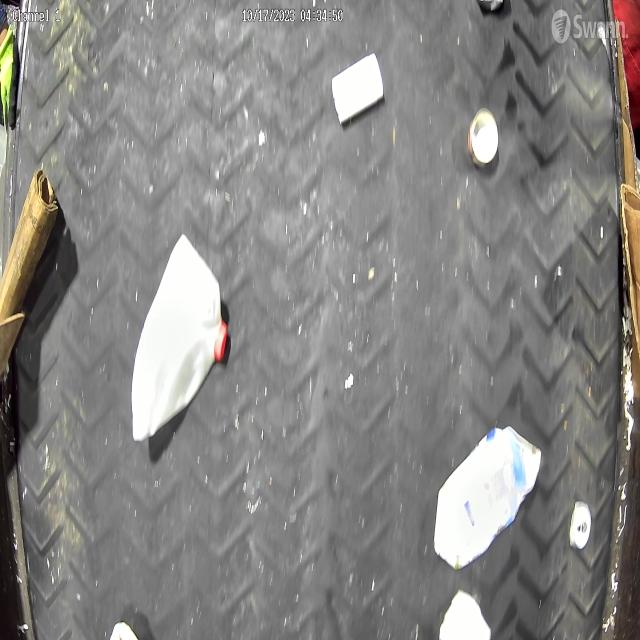milk_jug: (131, 233, 227, 443)
non_white_jug: (434, 426, 542, 570)
